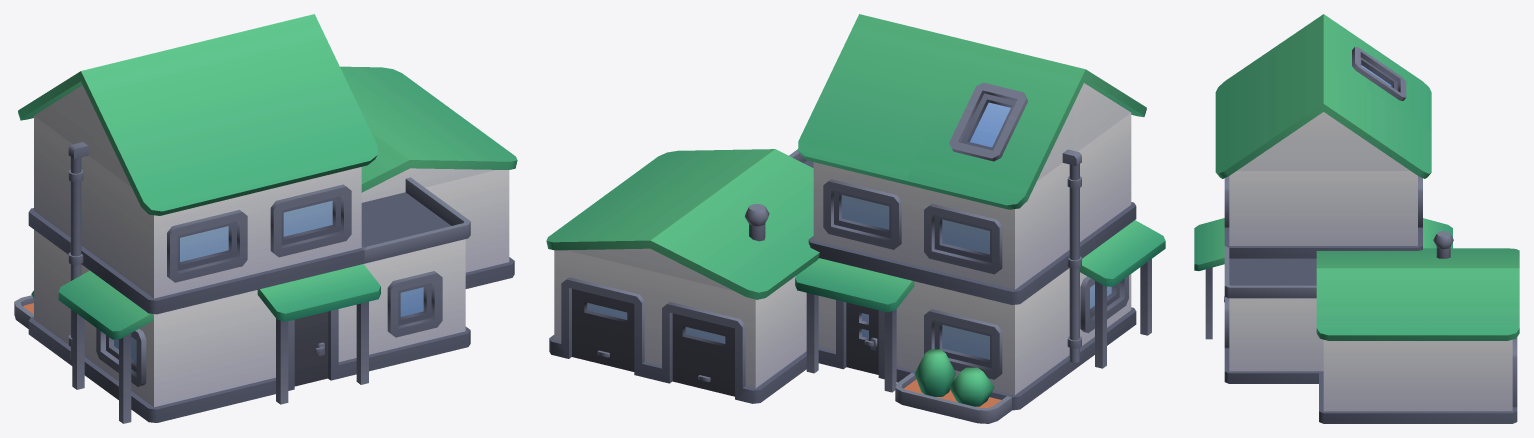
The model's file is house.glb.
3 views of the same model, side by side, from view 1: azimuth 30°, elevation 25°; view 2: azimuth 150°, elevation 25°; view 3: azimuth 270°, elevation 25° (orthographic). The views are drawn at different scales.
Visible parts, largest first — view 1: building-type-n; view 2: building-type-n; view 3: building-type-n.
Part boxes in pixels (x1,y1,x2,y2): building-type-n: [14, 14, 517, 423]; building-type-n: [546, 14, 1165, 423]; building-type-n: [1194, 14, 1519, 423].
Bounding box in the file's own units: 1.78 × 1.14 × 1.38.
Materials: 1 (1 with a texture image).
